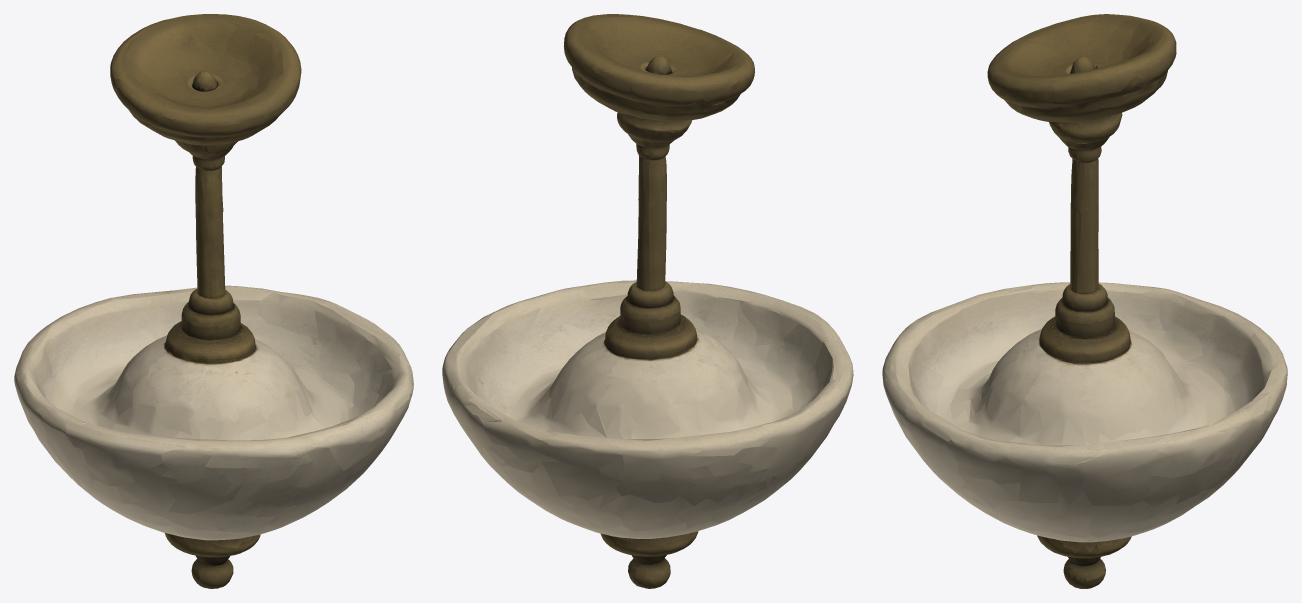
Rendered from lampadario.glb.
3 renders of one model, left to right at view 1: azimuth 30°, elevation 25°; view 2: azimuth 150°, elevation 25°; view 3: azimuth 270°, elevation 25°, orthographic. The views are drawn at different scales.
Visible parts, largest first — view 1: Mesh_0; view 2: Mesh_0; view 3: Mesh_0.
Boxes of the visible parts, x1,y1,x2,y2 form: Mesh_0: (14, 14, 413, 588); Mesh_0: (442, 14, 853, 588); Mesh_0: (882, 14, 1287, 588).
Size of the model in its own units: 1.28 by 1.9 by 1.28.
Materials: 1 (1 with a texture image).
